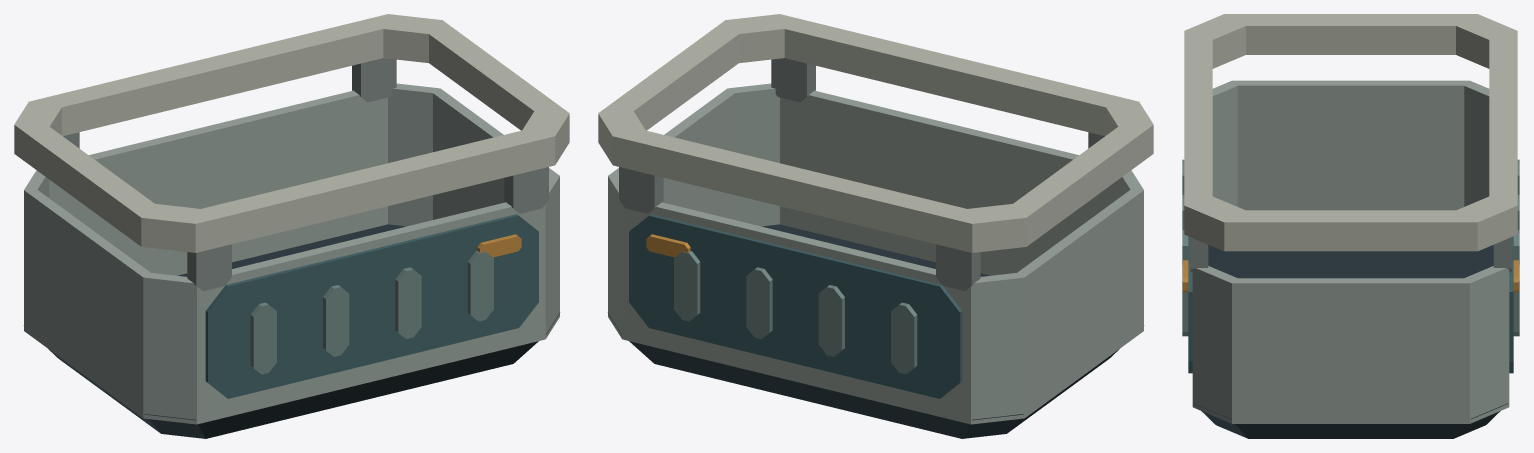
The model's file is MR-02_return_tote.glb.
The picture shows the model from 3 angles, left to right: view 1: azimuth 30°, elevation 25°; view 2: azimuth 150°, elevation 25°; view 3: azimuth 270°, elevation 25°; orthographic projection.
Visible parts, largest first — view 1: MR-02_return_tote; view 2: MR-02_return_tote; view 3: MR-02_return_tote.
Part boxes in pixels (x1,y1,x2,y2): MR-02_return_tote: [14, 14, 569, 438]; MR-02_return_tote: [598, 14, 1153, 438]; MR-02_return_tote: [1182, 14, 1519, 438].
Bounding box in the file's own units: 0.77 × 0.4 × 0.527.
